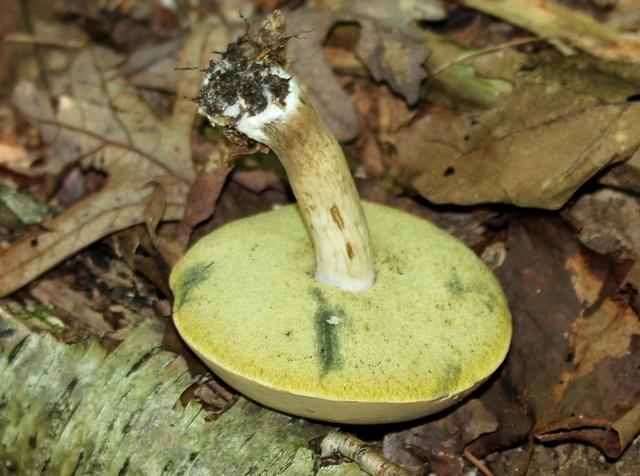edible_mushroom: (167, 11, 514, 426)
